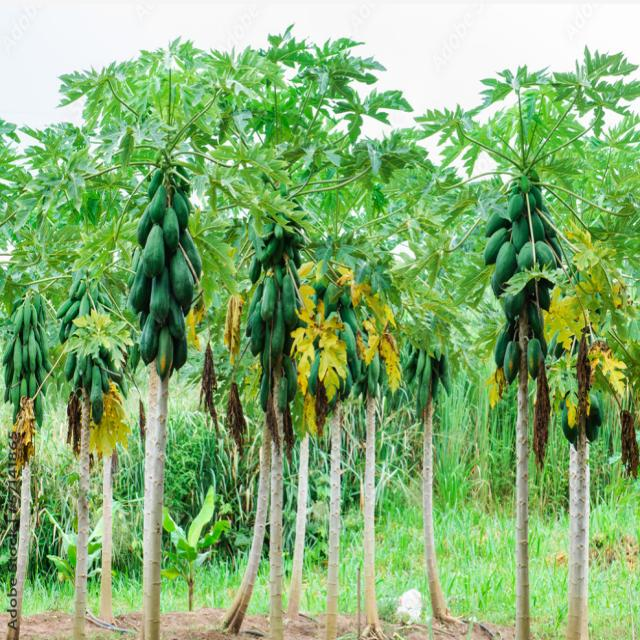Papaya-Tree: (425, 62, 619, 631), (214, 74, 365, 640), (92, 59, 235, 640), (35, 194, 134, 640)
